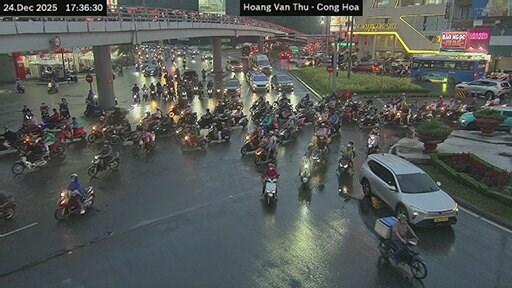motorbike: (399, 238, 426, 278), (10, 154, 48, 174), (54, 190, 79, 220), (88, 153, 118, 175), (131, 130, 154, 154), (336, 158, 351, 194), (108, 129, 138, 144), (377, 238, 396, 260), (181, 135, 207, 151), (0, 193, 16, 219), (205, 126, 230, 142), (59, 126, 86, 140), (263, 178, 277, 205), (86, 126, 108, 143), (240, 135, 259, 154), (39, 117, 66, 130), (298, 157, 310, 183), (310, 147, 326, 166), (278, 126, 297, 142), (153, 121, 176, 134), (256, 148, 273, 165), (48, 138, 64, 154), (358, 116, 381, 127), (83, 103, 103, 115), (336, 157, 349, 175), (227, 115, 248, 126), (367, 135, 378, 153), (83, 188, 92, 207), (197, 116, 211, 126), (131, 90, 140, 103), (48, 81, 57, 93), (214, 86, 223, 97), (67, 72, 76, 82), (141, 89, 147, 100), (16, 84, 24, 91), (150, 90, 156, 99)
